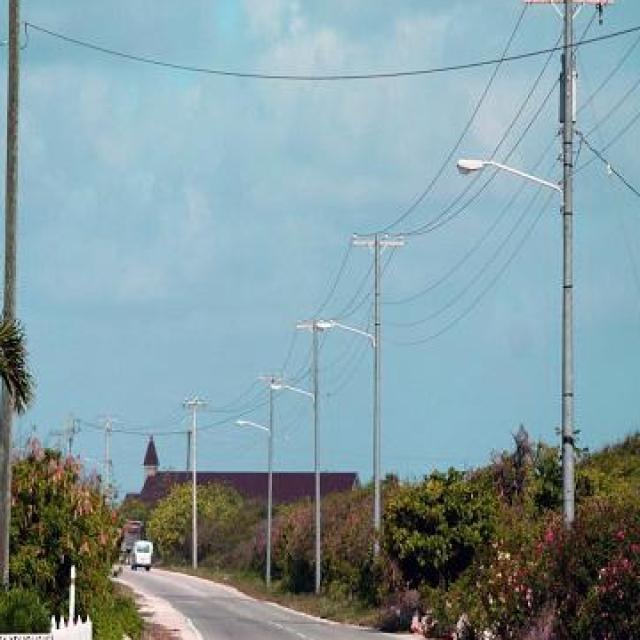non-critical vegetation: (515, 0, 625, 517), (338, 215, 423, 526), (174, 386, 228, 578)
